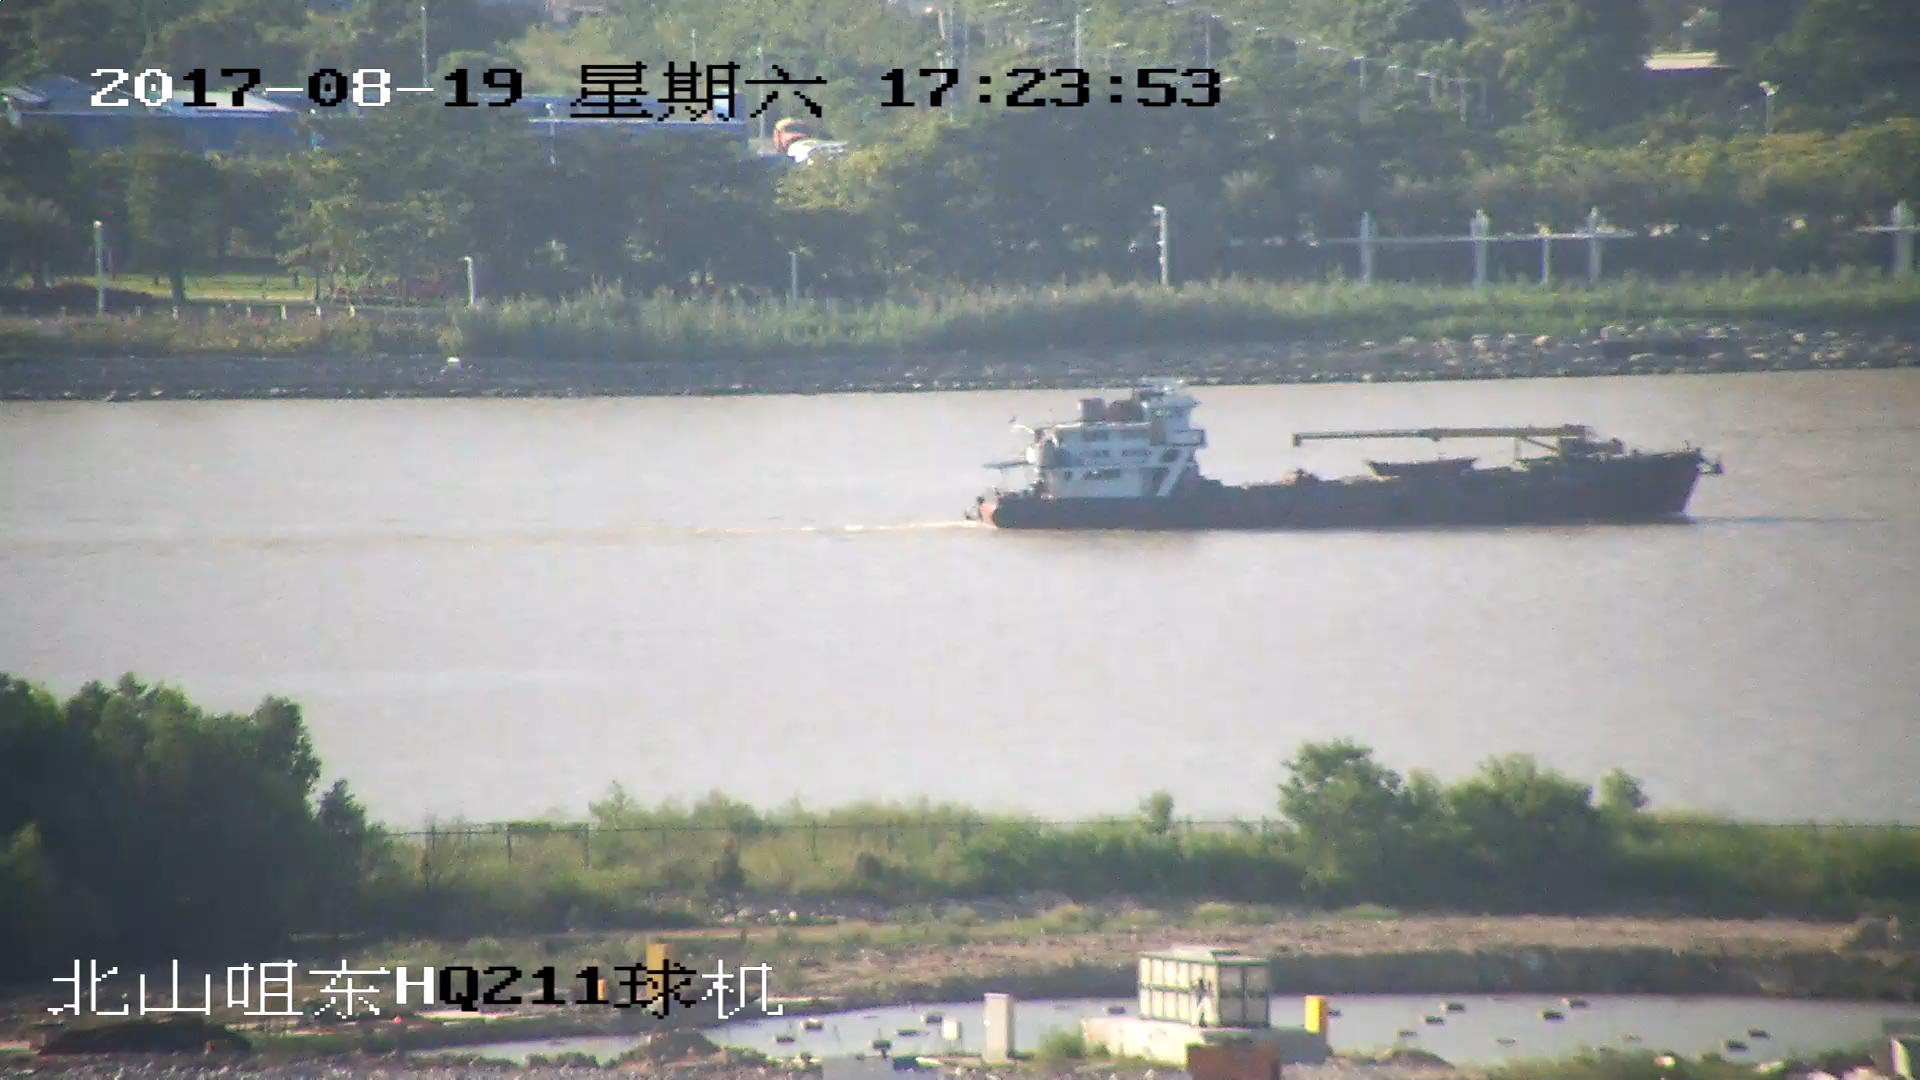bulk cargo carrier: (972, 393, 1724, 530)
